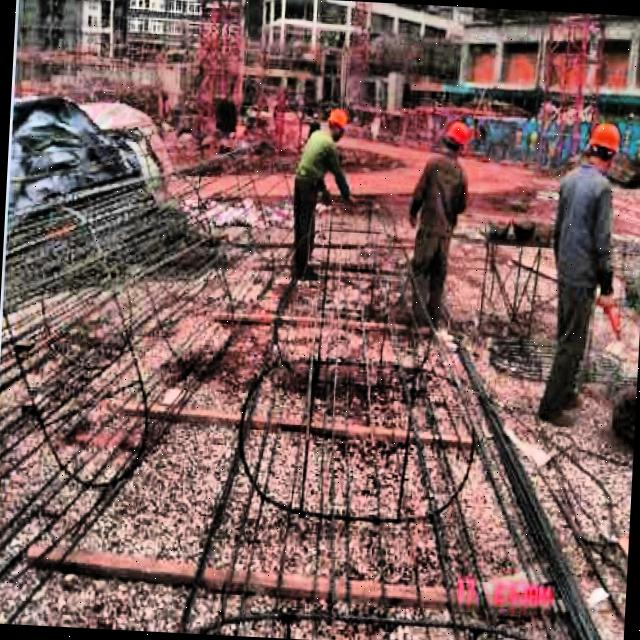helmet: (584, 116, 624, 176), (442, 120, 470, 162), (324, 106, 350, 145)
